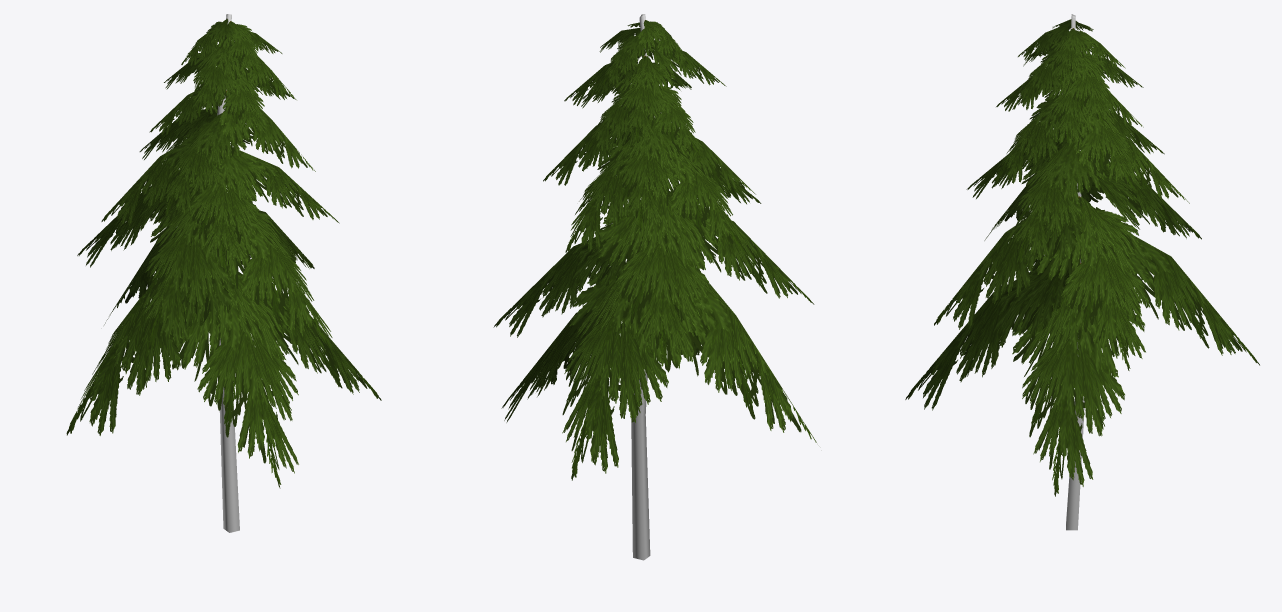
Rendered from SmallSpruce.fbx.
The picture shows the model from 3 angles, left to right: view 1: azimuth 30°, elevation 25°; view 2: azimuth 150°, elevation 25°; view 3: azimuth 270°, elevation 25°; orthographic projection. The views are drawn at different scales.
Parts seen in each view (by area): view 1: SmallSpruce; view 2: SmallSpruce; view 3: SmallSpruce.
Part boxes in pixels (x1,y1,x2,y2): SmallSpruce: (66, 14, 381, 532); SmallSpruce: (493, 14, 816, 560); SmallSpruce: (905, 14, 1259, 530).
Size of the model in its own units: 376 by 564 by 376.
